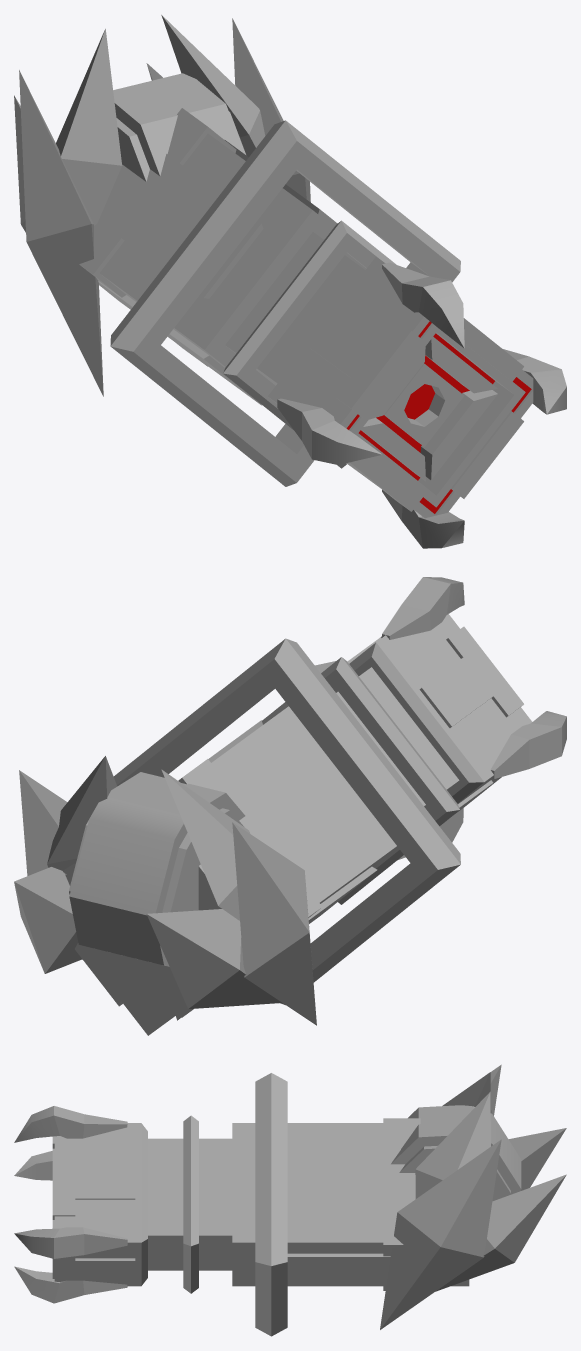
The model's file is Fbx_Boss_BFL.fbx.
3 views of the same model, one above another, from view 1: azimuth 30°, elevation 25°; view 2: azimuth 150°, elevation 25°; view 3: azimuth 270°, elevation 25° (orthographic). The views are drawn at different scales.
Parts seen in each view (by area): view 1: pCube49, pCube47, pCube46, pCube64, pCube65, pCube63, pCube62, pCube55, pCube48, pCube61, pCube58, pCube66 (+10 smaller); view 2: pCube47, pCube49, pCube63, pCube64, pCube67, pCube46, pCube65, pCube62, pCube55, pCube61, pCube58, pCube48 (+1 smaller); view 3: pCube47, pCube64, pCube48, pCube49, pCube46, pCube67, pCube63, pCube65, pCube54, pCube62, pCube59, pCube58 (+4 smaller).
Boxes of the visible parts, x1,y1,x2,y2 form: pCube49: (110, 120, 460, 486); pCube47: (98, 133, 366, 405); pCube46: (268, 256, 533, 518); pCube64: (19, 18, 310, 396); pCube65: (56, 15, 265, 225); pCube63: (113, 73, 245, 181); pCube62: (223, 220, 396, 468); pCube55: (309, 308, 423, 417); pCube48: (225, 232, 365, 385); pCube61: (277, 398, 382, 464); pCube58: (382, 262, 464, 348); pCube66: (79, 108, 236, 366); pCube47: (63, 706, 397, 1035); pCube49: (113, 638, 460, 1005); pCube63: (69, 772, 245, 966); pCube64: (19, 770, 316, 1025); pCube67: (14, 867, 281, 1008); pCube46: (334, 614, 531, 808); pCube65: (47, 756, 250, 920); pCube62: (262, 657, 459, 904); pCube55: (419, 626, 523, 727); pCube61: (490, 711, 566, 778); pCube58: (382, 577, 464, 639); pCube48: (336, 667, 459, 807); pCube47: (232, 1123, 469, 1286); pCube64: (380, 1064, 501, 1329); pCube48: (148, 1138, 232, 1270); pCube49: (255, 1073, 287, 1336); pCube46: (54, 1123, 147, 1286); pCube67: (435, 1128, 566, 1291); pCube63: (391, 1105, 521, 1201); pCube65: (415, 1072, 491, 1198); pCube54: (52, 1148, 135, 1219); pCube62: (183, 1115, 198, 1293); pCube59: (14, 1227, 127, 1258); pCube58: (14, 1106, 127, 1142).
Bounding box in the file's own units: 411 × 411 × 781.
